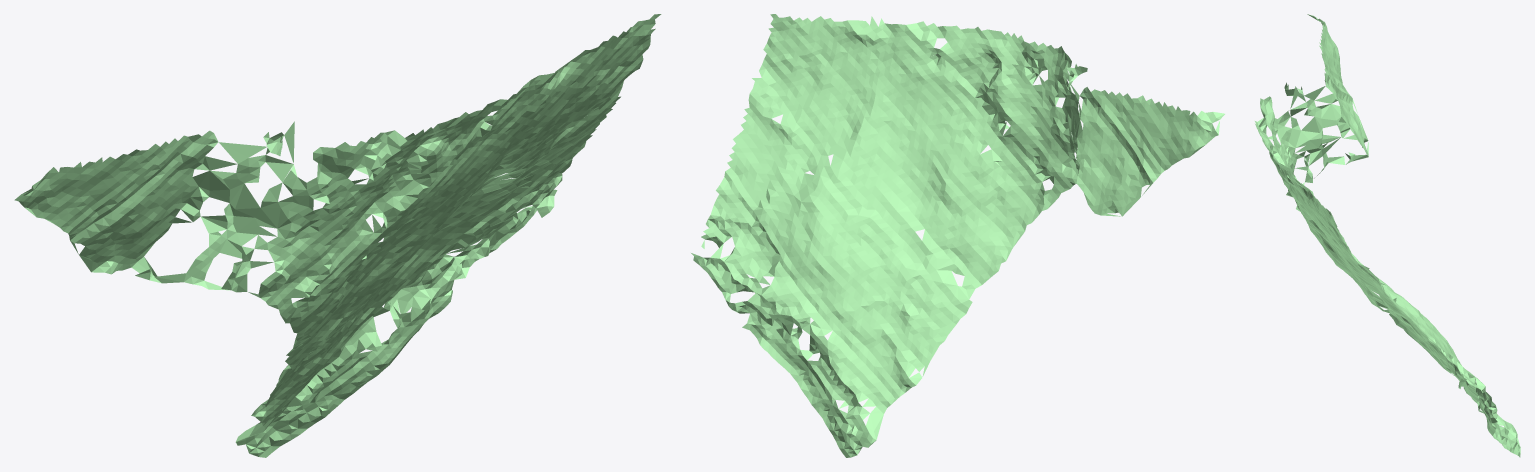
Rendered from tile_0.glb.
3 renders of one model, left to right at view 1: azimuth 30°, elevation 25°; view 2: azimuth 150°, elevation 25°; view 3: azimuth 270°, elevation 25°, orthographic. The views are drawn at different scales.
Size of the model in its own units: 39.31 by 28.54 by 21.08.
